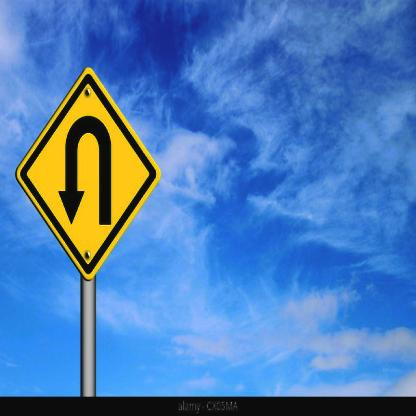U-turn: (17, 68, 162, 282)
